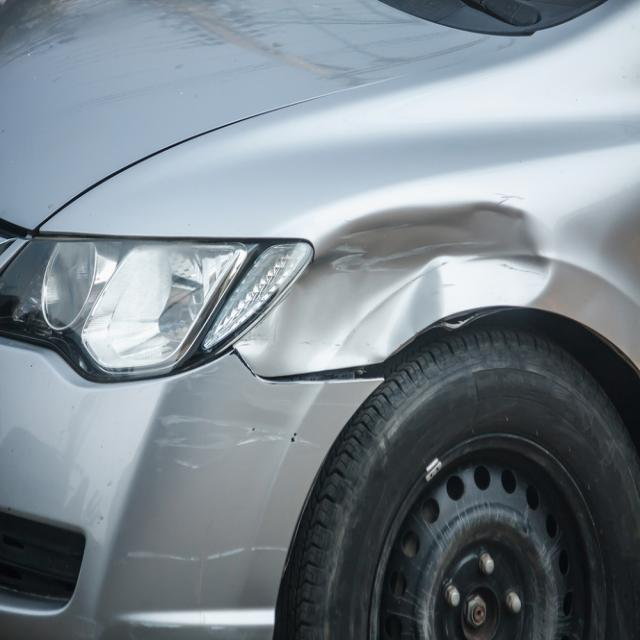dent: (235, 205, 555, 372)
scratch: (148, 410, 320, 477), (124, 540, 289, 566)
